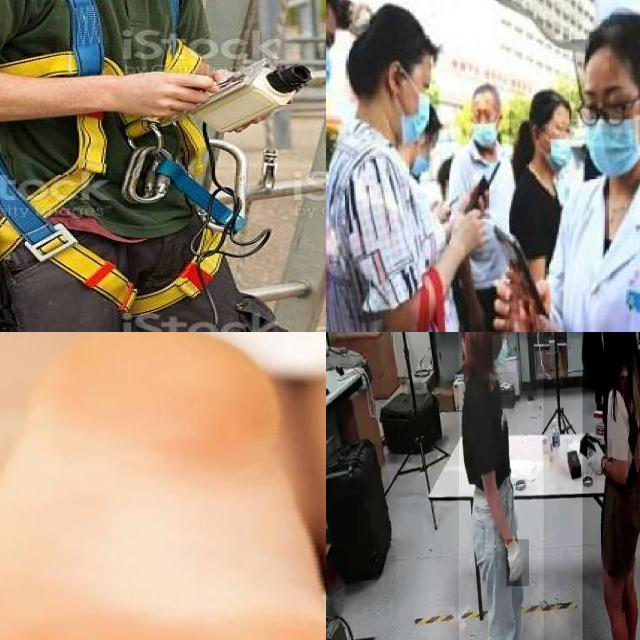Barefoots: (0, 332, 326, 640)
Harness: (0, 0, 235, 310)
face_mask: (582, 67, 640, 187), (391, 63, 436, 144), (536, 109, 574, 172), (468, 98, 497, 149), (492, 335, 516, 372)
glasses: (574, 94, 640, 131)
hand_glove: (506, 539, 530, 587), (586, 438, 612, 481)
hand_noglove: (489, 273, 552, 332), (449, 208, 484, 250), (460, 180, 490, 210)
head_nohelmet: (367, 0, 443, 67), (563, 10, 640, 71), (519, 89, 571, 116), (462, 76, 499, 105)
person: (337, 0, 474, 332), (554, 0, 640, 332), (459, 332, 544, 640), (582, 332, 640, 640), (506, 80, 580, 296), (452, 66, 516, 287), (326, 0, 363, 332)
